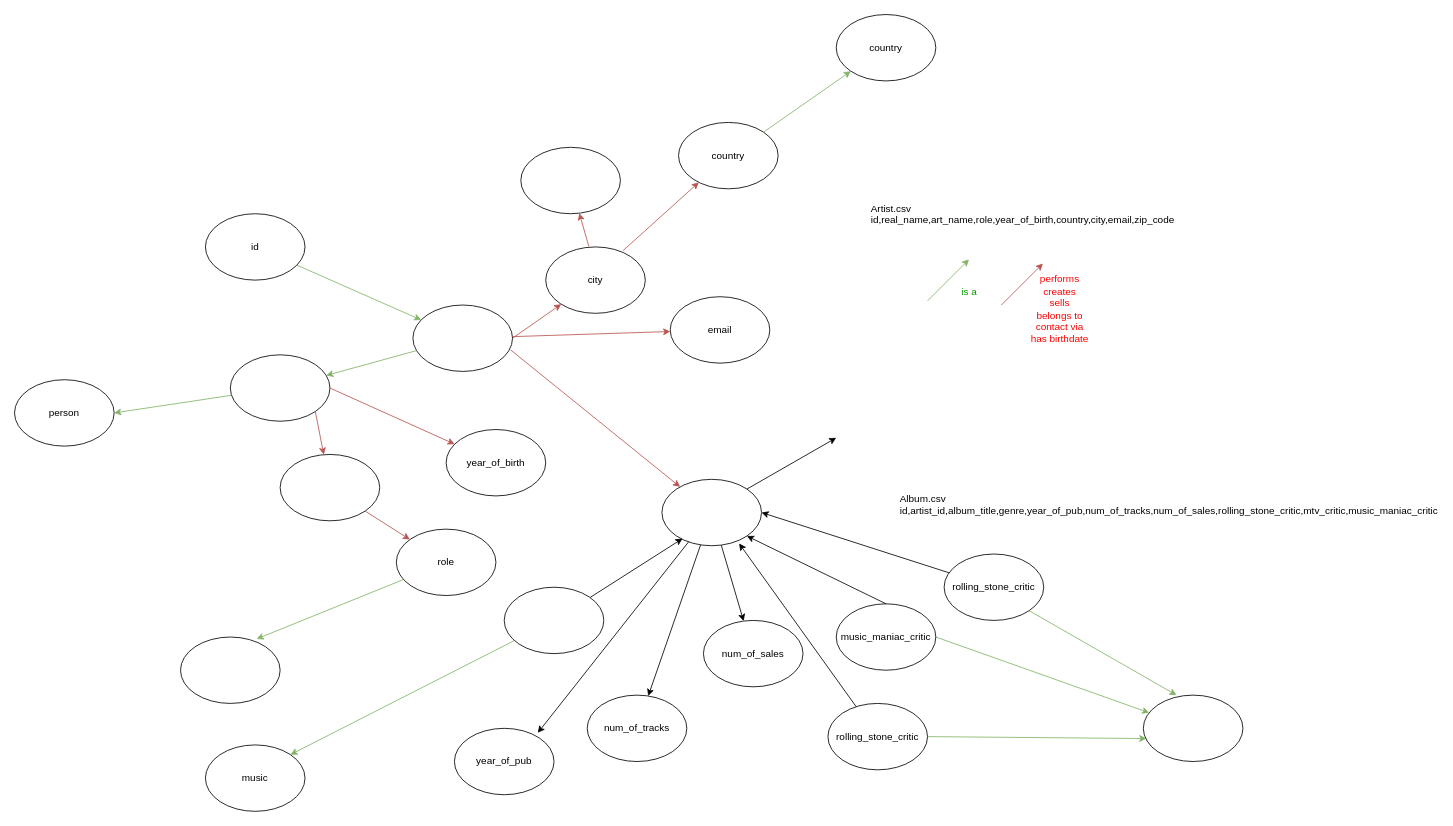
Image size: 1453x826. Some labels were removed from this diagram. Each missing label, with the centre of its shape:
album_title: the point at 711,512
art_name: the point at 329,487
artist_id: the point at 462,337
career: the point at 230,669
critic: the point at 1192,728
genre: the point at 553,620
real_name: the point at 279,387
zip_code: the point at 570,180
